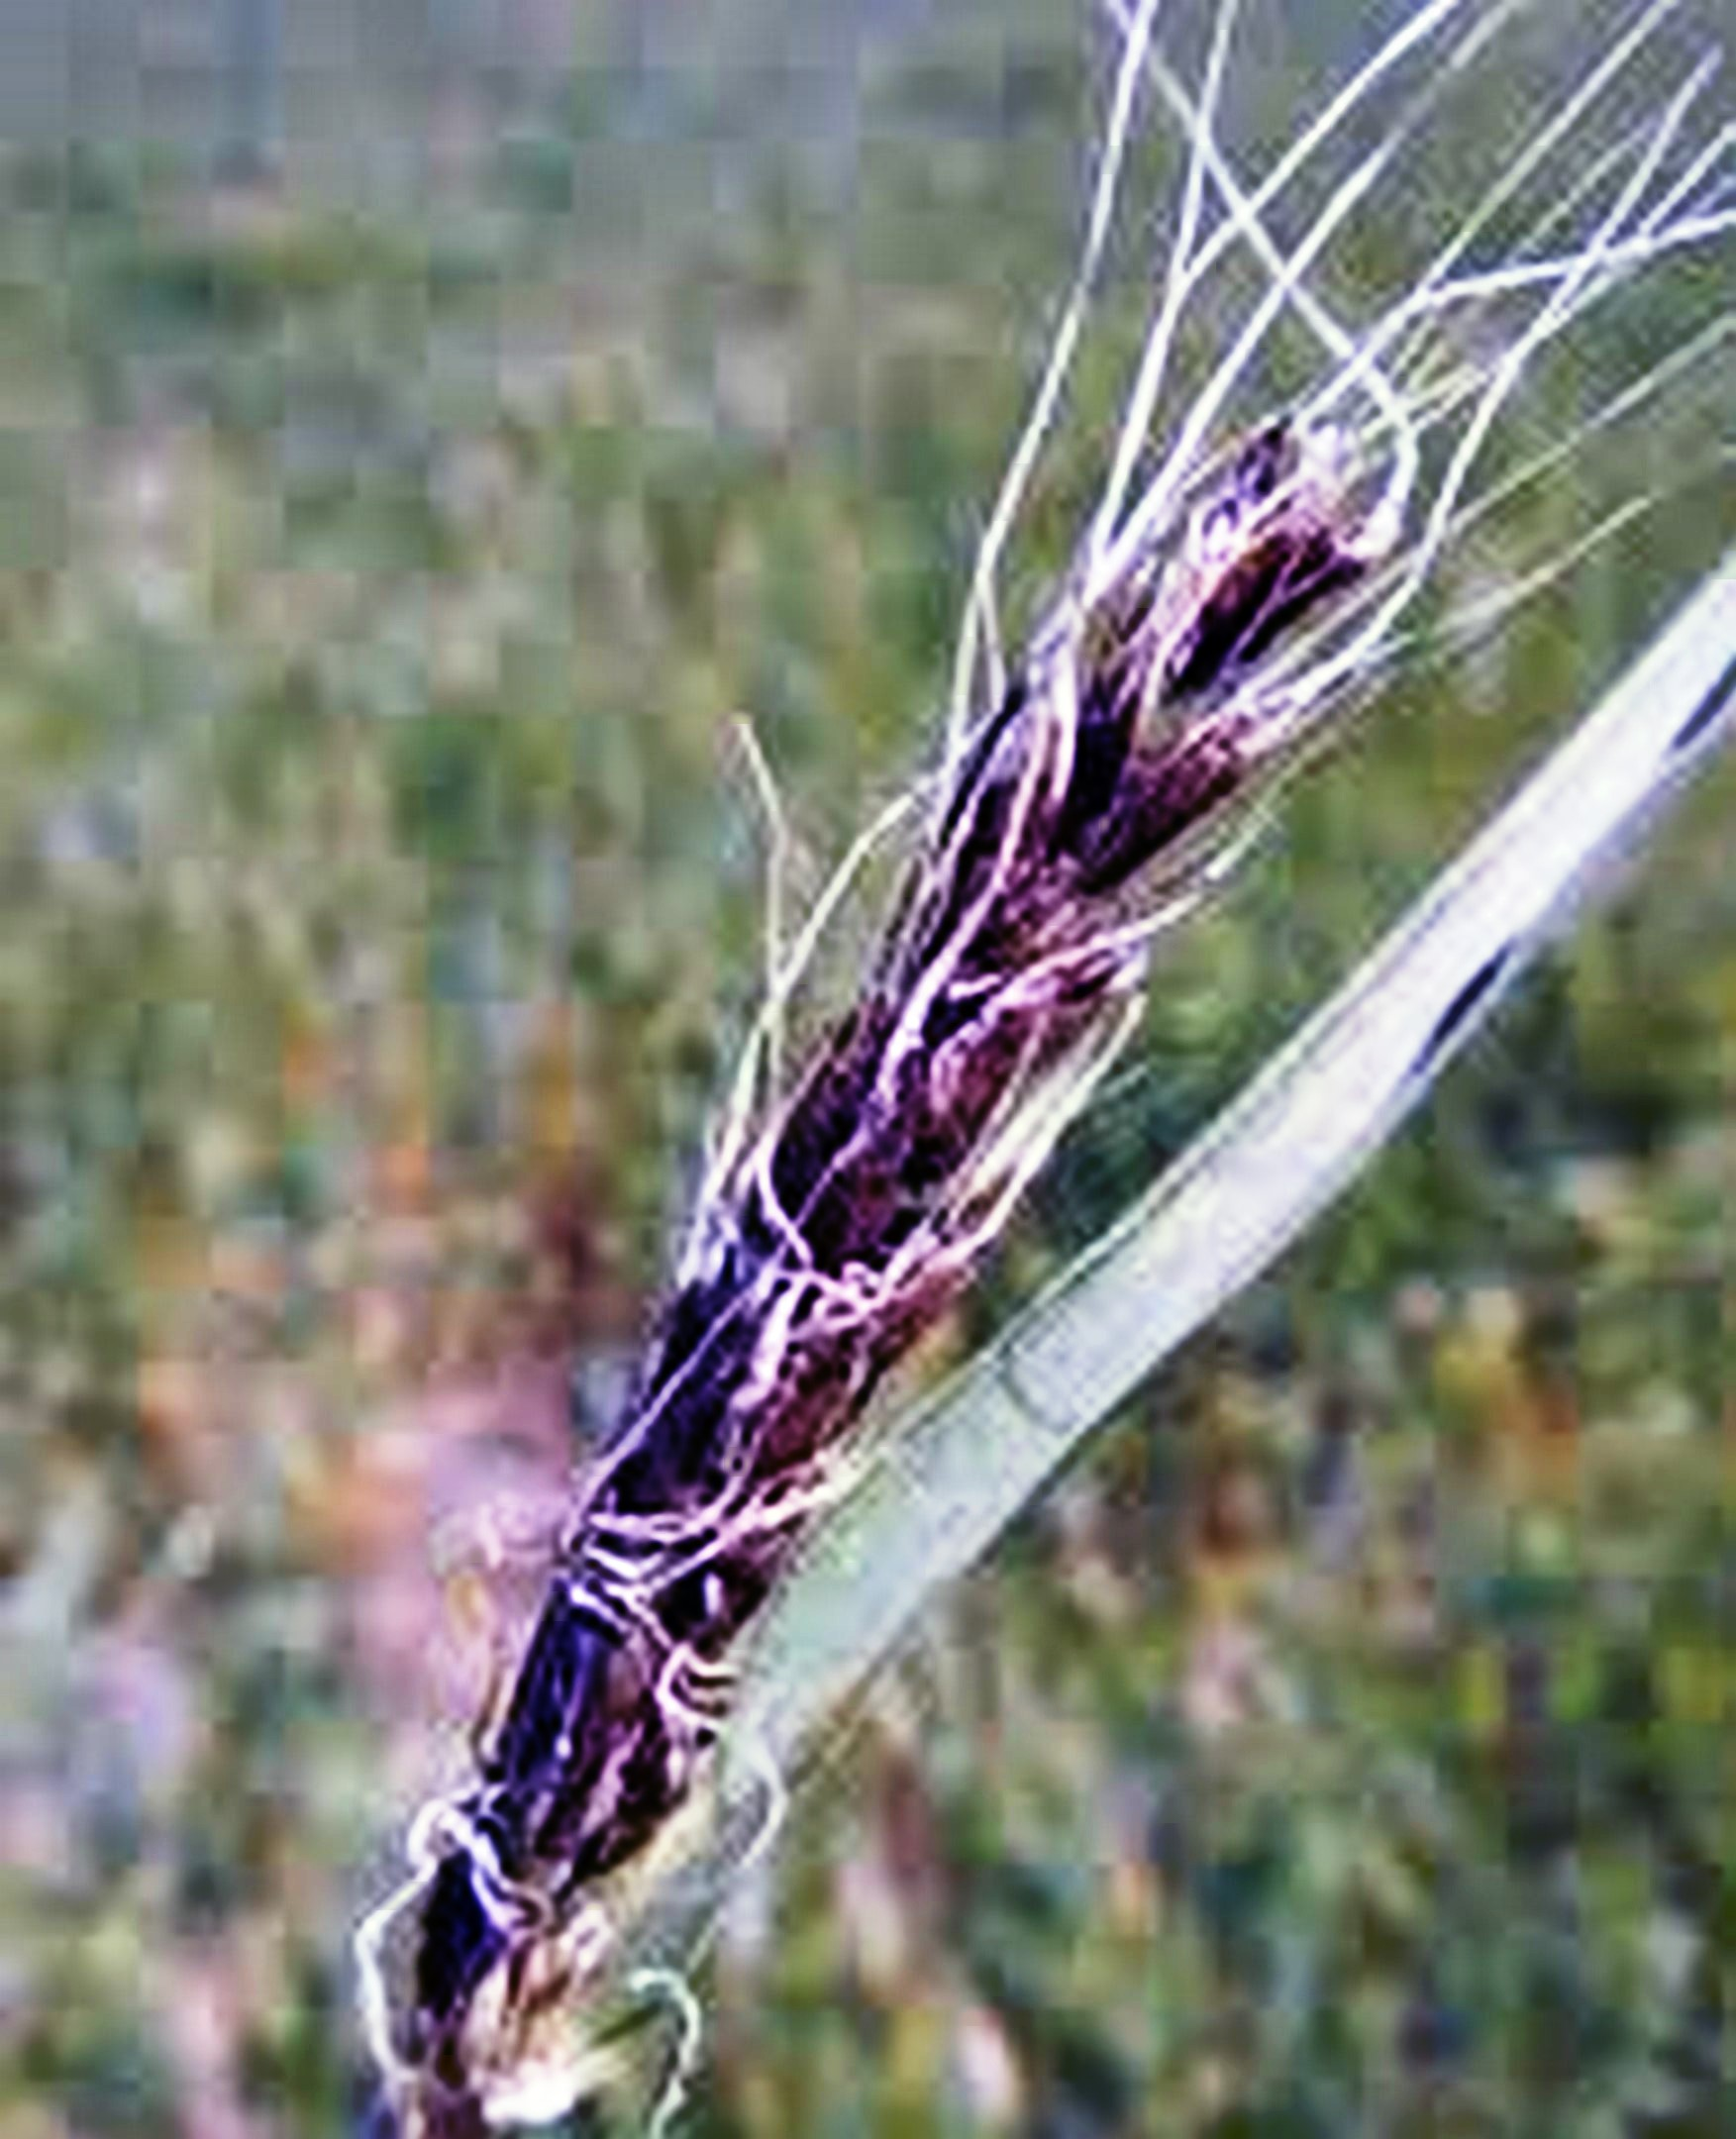Wheat Loose Smut: (462, 377, 1396, 1944)
